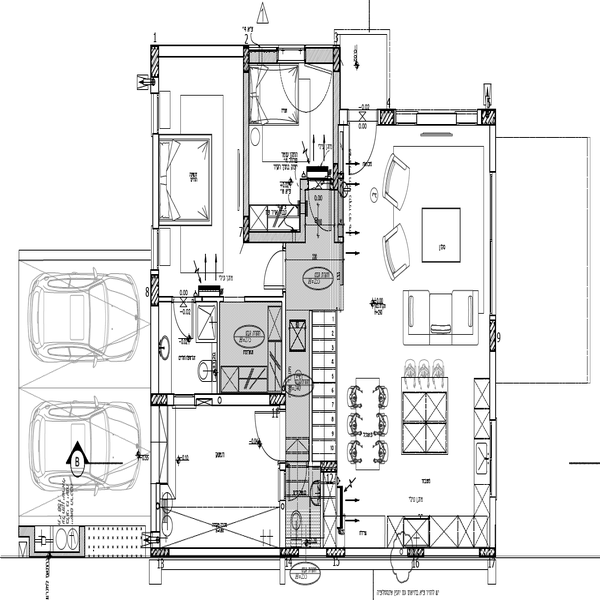door: (243, 408, 289, 459), (343, 112, 378, 178), (253, 246, 289, 293), (307, 188, 337, 236)
wall: (237, 48, 252, 244), (246, 44, 338, 70), (334, 49, 345, 250), (152, 138, 160, 407)
